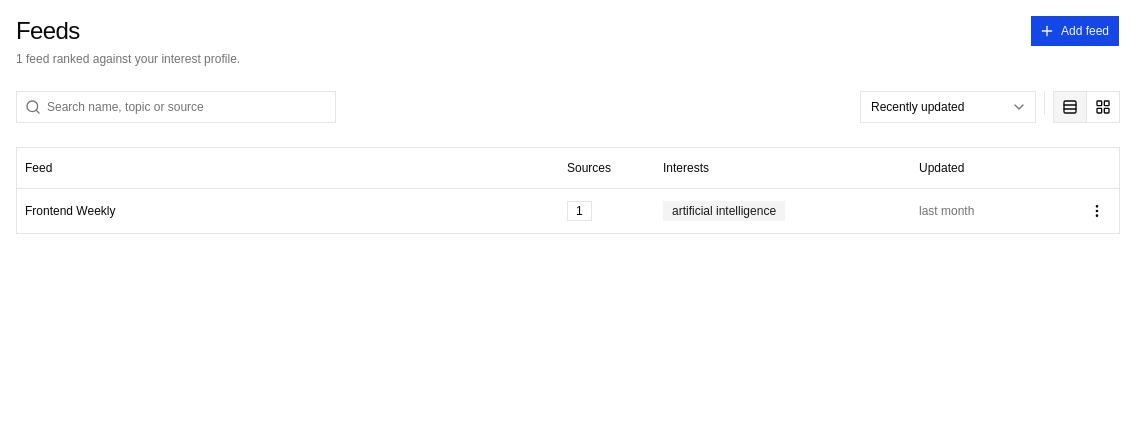
Test case: FeedsPage › shows a no-results state when nothing matches the search
Type "nothing matches this" into the field named "Search feeds" at (188, 107), box x1=41 y1=91 x2=335 y2=123
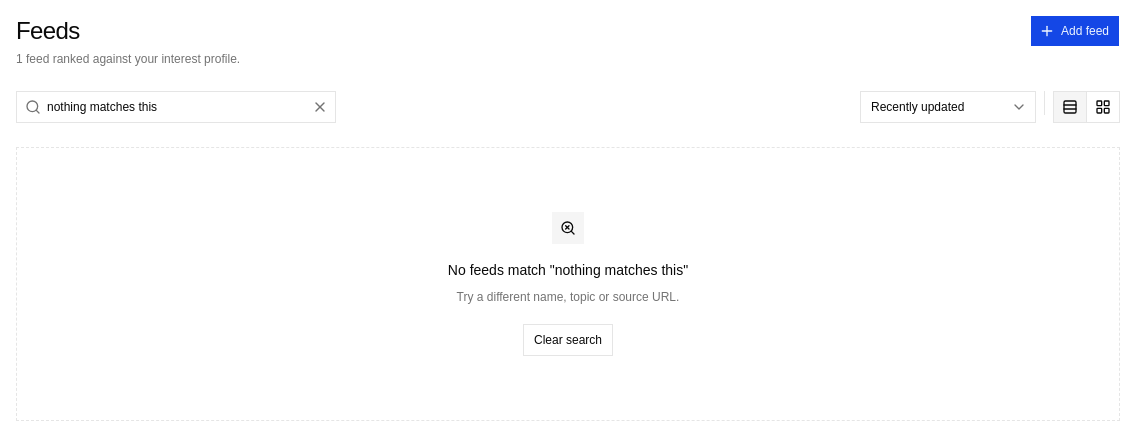
Now the text "No feeds match \"nothing matches this\"" is shown, box x1=448 y1=260 x2=688 y2=280
